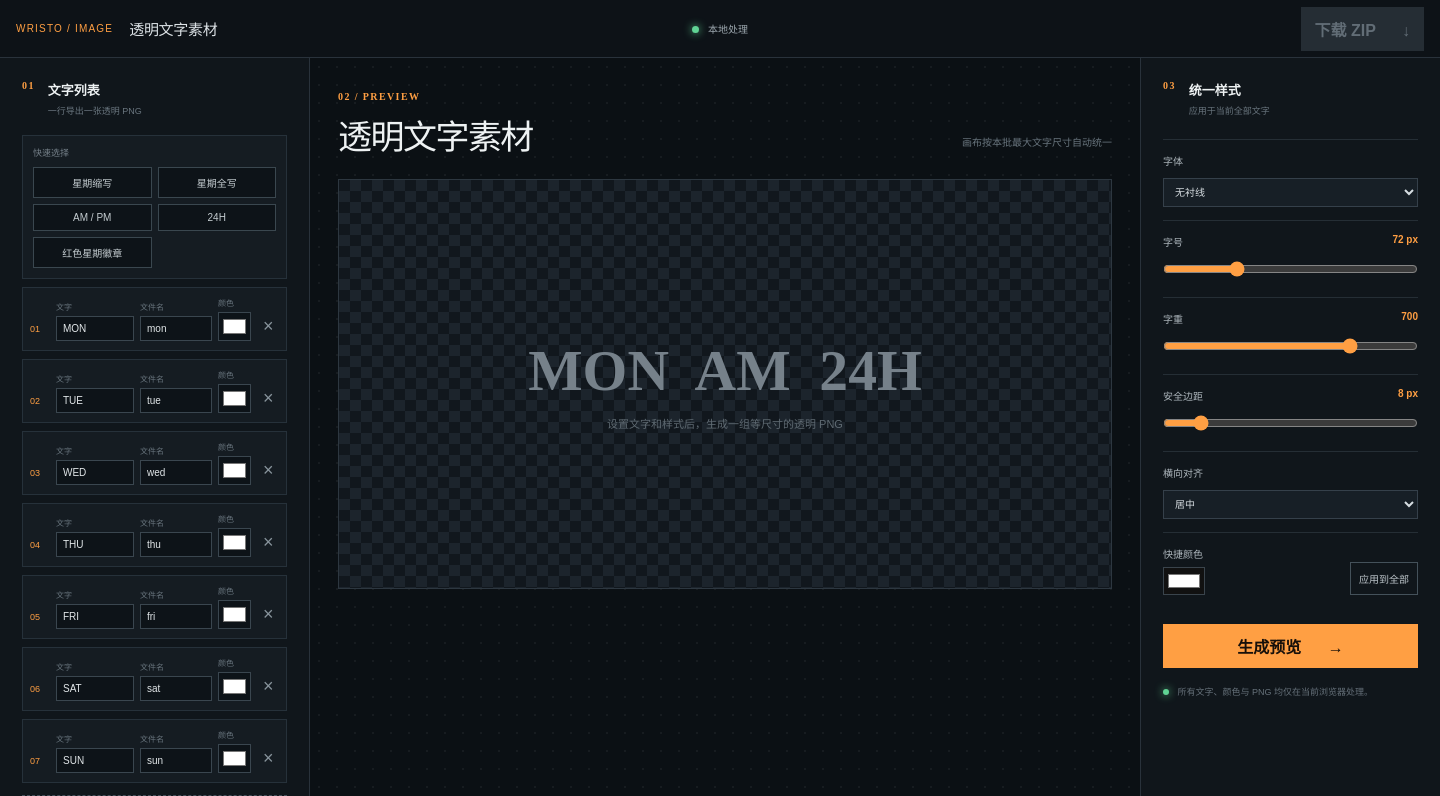
Test case: TextAssetGenerator › replaces the list with an AM/PM preset and exposes every watchface text preset
The width and height of the screenshot is (1440, 796).
Click the button "AM / PM".
click(92, 218)  # box left=33, top=204, right=152, bottom=231
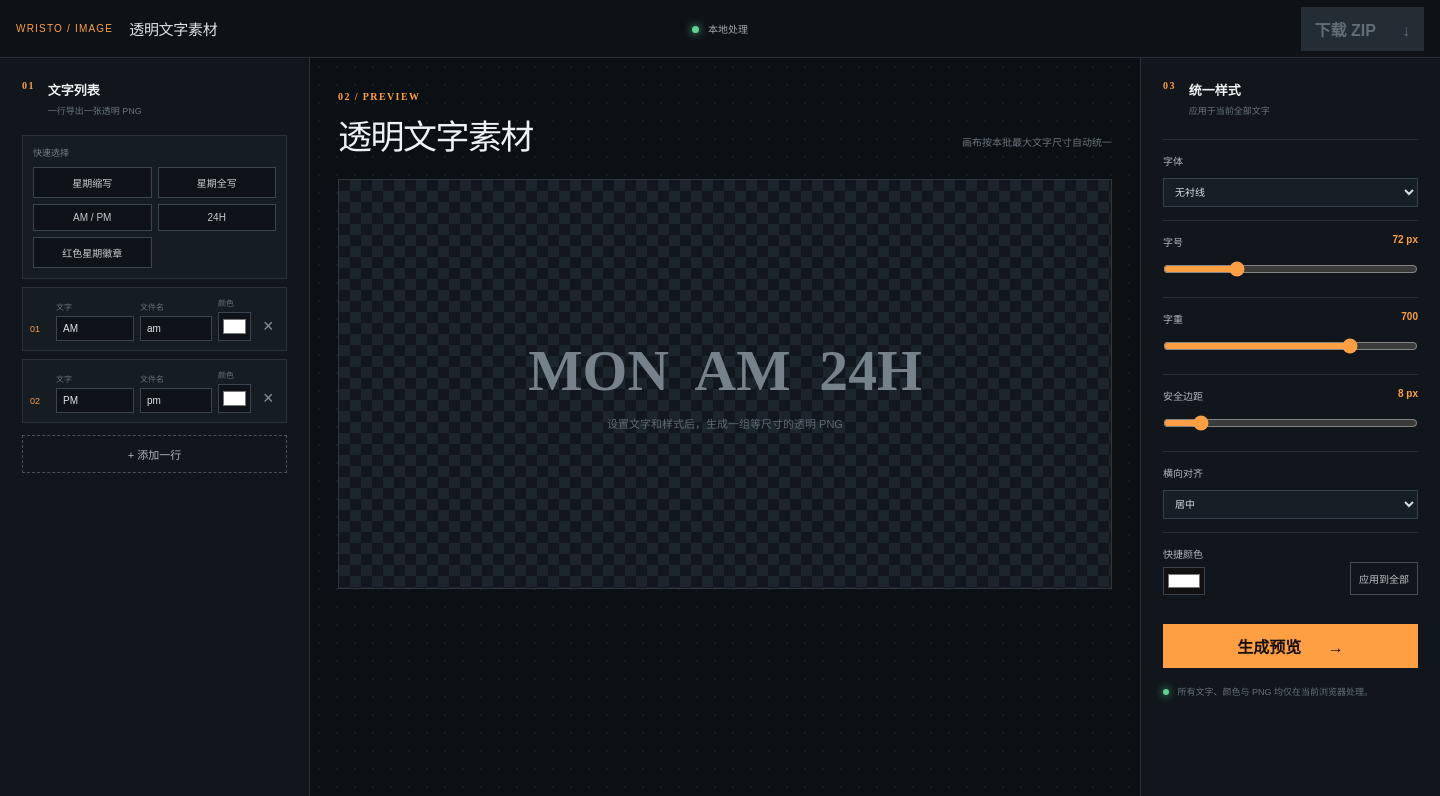
Result: the number of elements with test id "text-asset-row" is 2 at left=22, top=287, right=287, bottom=351; left=22, top=359, right=287, bottom=423
Result: the field named "第 1 行文字" holds "AM" at left=56, top=316, right=134, bottom=341
Result: the field named "第 2 行文字" holds "PM" at left=56, top=388, right=134, bottom=413
